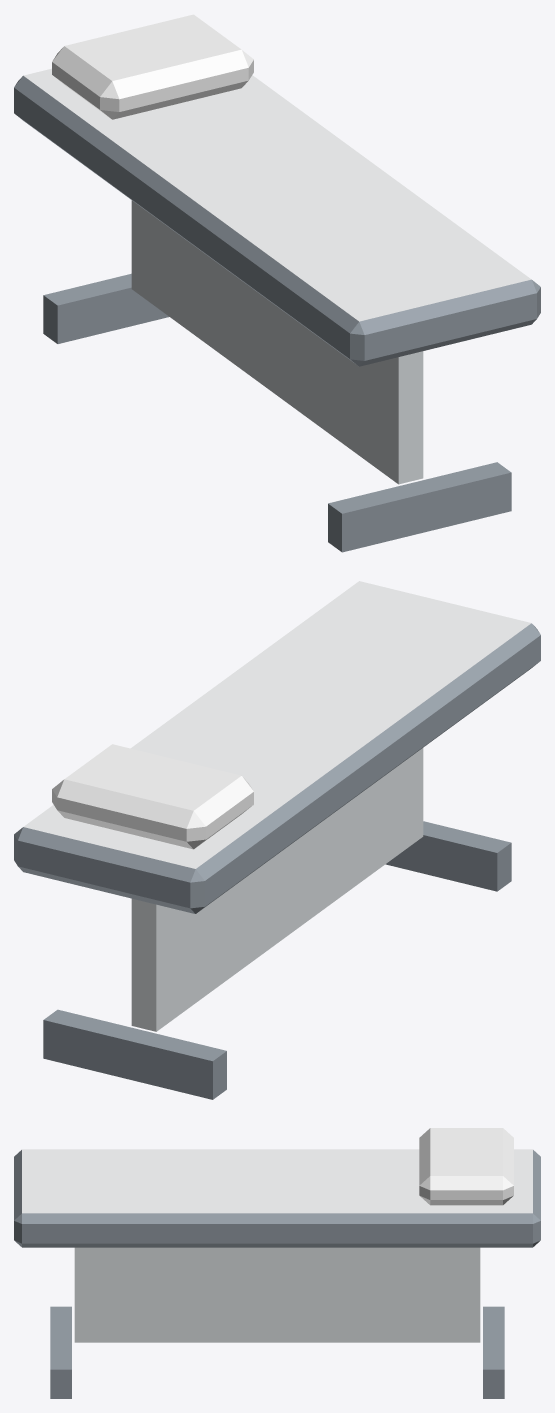
Rendered from stretcher.fbx.
The picture shows the model from 3 angles, top to bottom: view 1: azimuth 30°, elevation 25°; view 2: azimuth 150°, elevation 25°; view 3: azimuth 270°, elevation 25°; orthographic projection. The views are drawn at different scales.
Parts seen in each view (by area): view 1: stretcher; view 2: stretcher; view 3: stretcher.
Part boxes in pixels (bbox=[...]): stretcher: bbox=[14, 14, 540, 552]; stretcher: bbox=[14, 581, 540, 1099]; stretcher: bbox=[14, 1128, 540, 1398].
Bounding box in the file's own units: 0.62 × 0.88 × 1.95.
